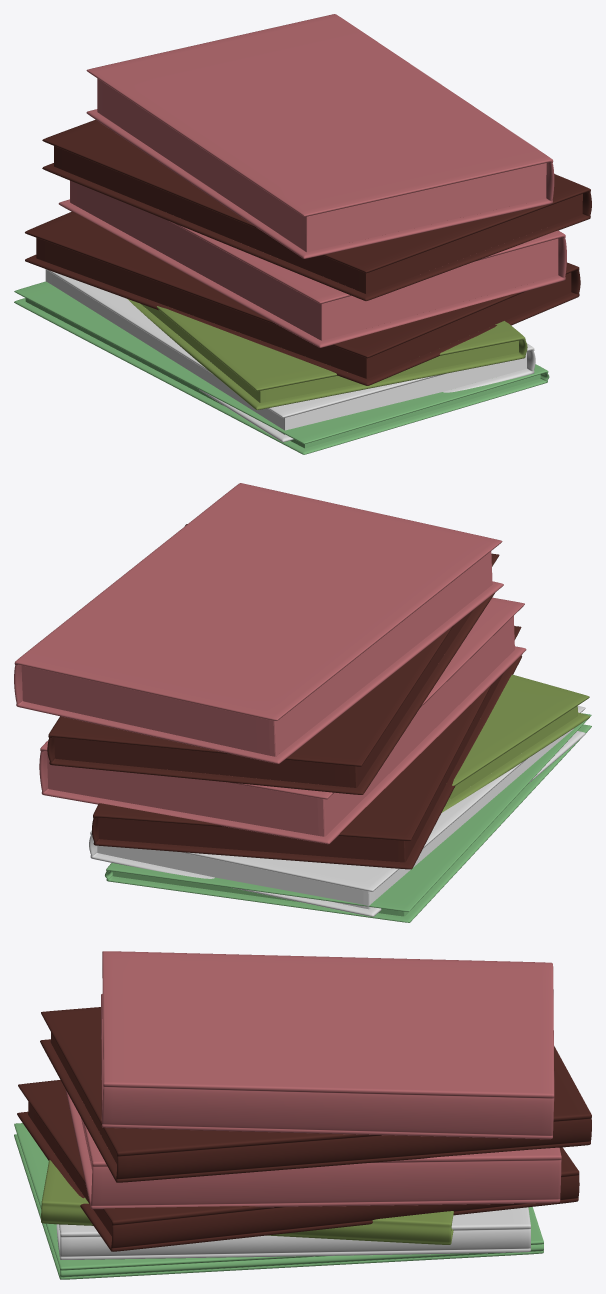
Rendered from Books.glb.
3 views of the same model, one above another, from view 1: azimuth 30°, elevation 25°; view 2: azimuth 150°, elevation 25°; view 3: azimuth 270°, elevation 25° (orthographic). The views are drawn at different scales.
Parts seen in each view (by area): view 1: Cube.037, Cube.032, Cube.004, Cube.036, Cube.012, Cube.002, Cube.034; view 2: Cube.037, Cube.004, Cube.032, Cube.036, Cube.034, Cube.012, Cube.002; view 3: Cube.037, Cube.032, Cube.004, Cube.036, Cube.034, Cube.012, Cube.002.
Part boxes in pixels (x1,y1,x2,y2): Cube.037: [86, 14, 554, 258]; Cube.032: [42, 119, 591, 300]; Cube.004: [58, 180, 566, 347]; Cube.036: [25, 211, 580, 385]; Cube.012: [14, 281, 549, 454]; Cube.002: [127, 299, 527, 409]; Cube.034: [45, 269, 535, 442]; Cube.037: [14, 483, 503, 763]; Cube.004: [39, 597, 526, 844]; Cube.032: [47, 524, 499, 794]; Cube.036: [92, 626, 521, 869]; Cube.034: [89, 706, 585, 916]; Cube.012: [105, 713, 591, 922]; Cube.002: [441, 674, 589, 812]; Cube.037: [101, 951, 554, 1139]; Cube.032: [40, 1007, 591, 1182]; Cube.004: [65, 1089, 561, 1209]; Cube.036: [17, 1080, 579, 1251]; Cube.034: [56, 1207, 530, 1259]; Cube.012: [14, 1123, 543, 1279]; Cube.002: [41, 1160, 453, 1244].
Size of the model in its own units: 0.4167 by 0.2114 by 0.5057.
